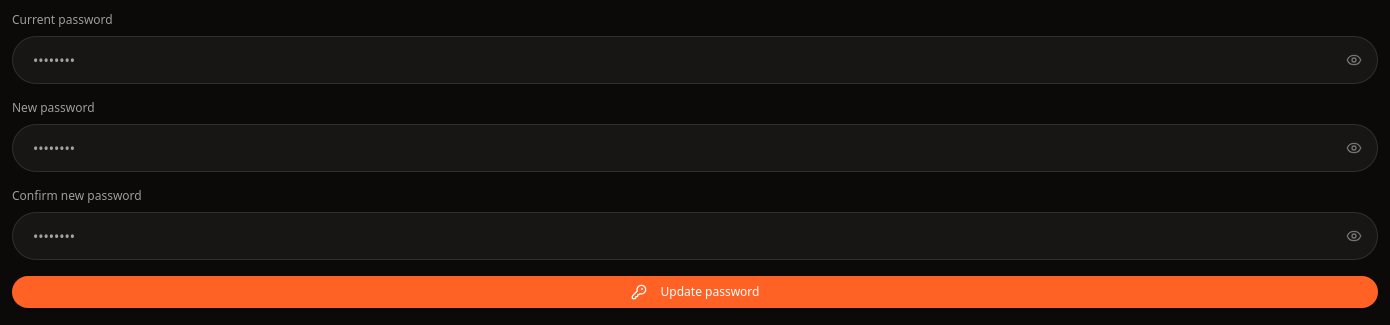
Test case: PasswordChangeForm submission › shows "Updating…" text on the submit button while the request is pending
The image size is (1390, 325).
Type "OldPass1!" into the password field labelled "Current password".
click(695, 60); type("OldPass1!")  # box [12, 36, 1378, 84]
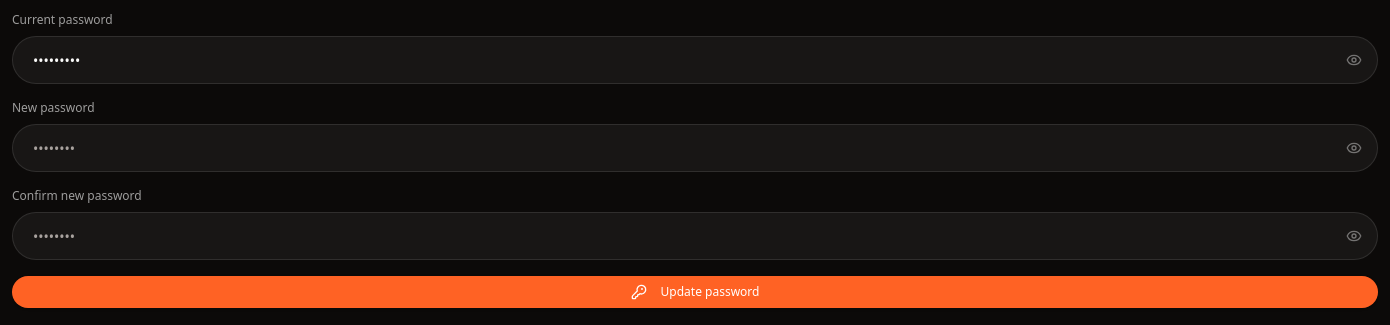
Type "NewPass1!LongEnough" into the password field labelled "New password".
click(695, 148); type("NewPass1!LongEnough")  # box [12, 124, 1378, 172]
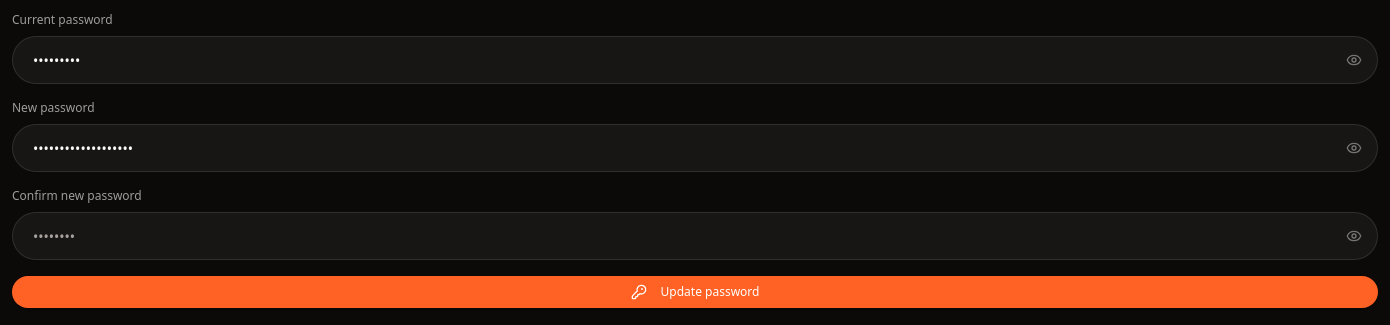
Type "NewPass1!LongEnough" into the password field labelled "Confirm new password".
click(695, 236); type("NewPass1!LongEnough")  # box [12, 212, 1378, 260]
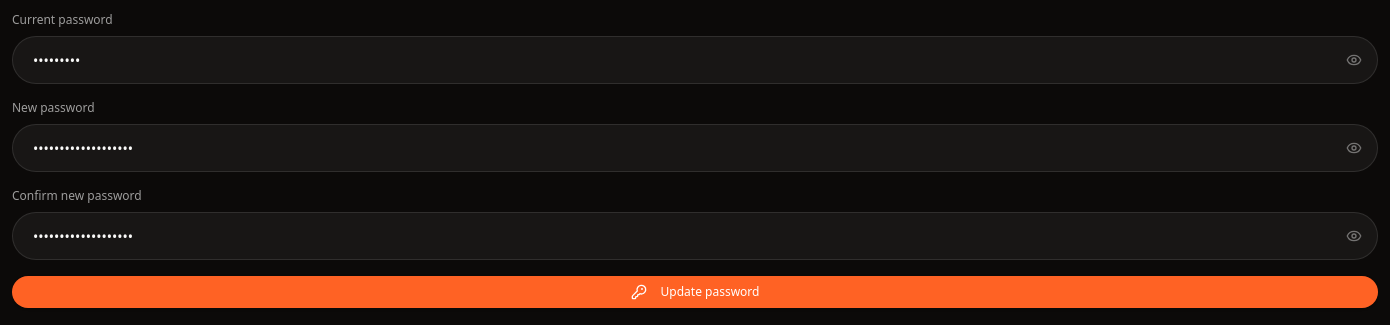
Click the button "Update password".
click(695, 292)  # box [12, 276, 1378, 308]
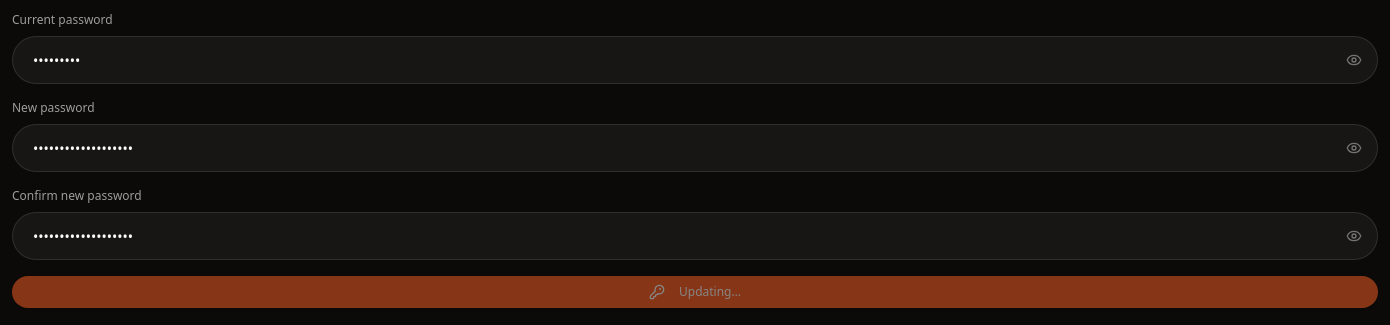
expect the button "Updating…" is shown: met, box [12, 276, 1378, 308]
